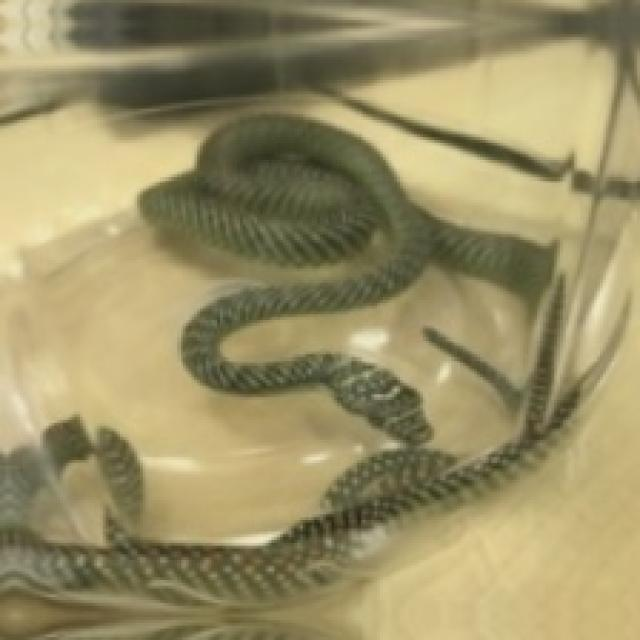paradise tree snake: (0, 114, 629, 637), (140, 114, 551, 440)
